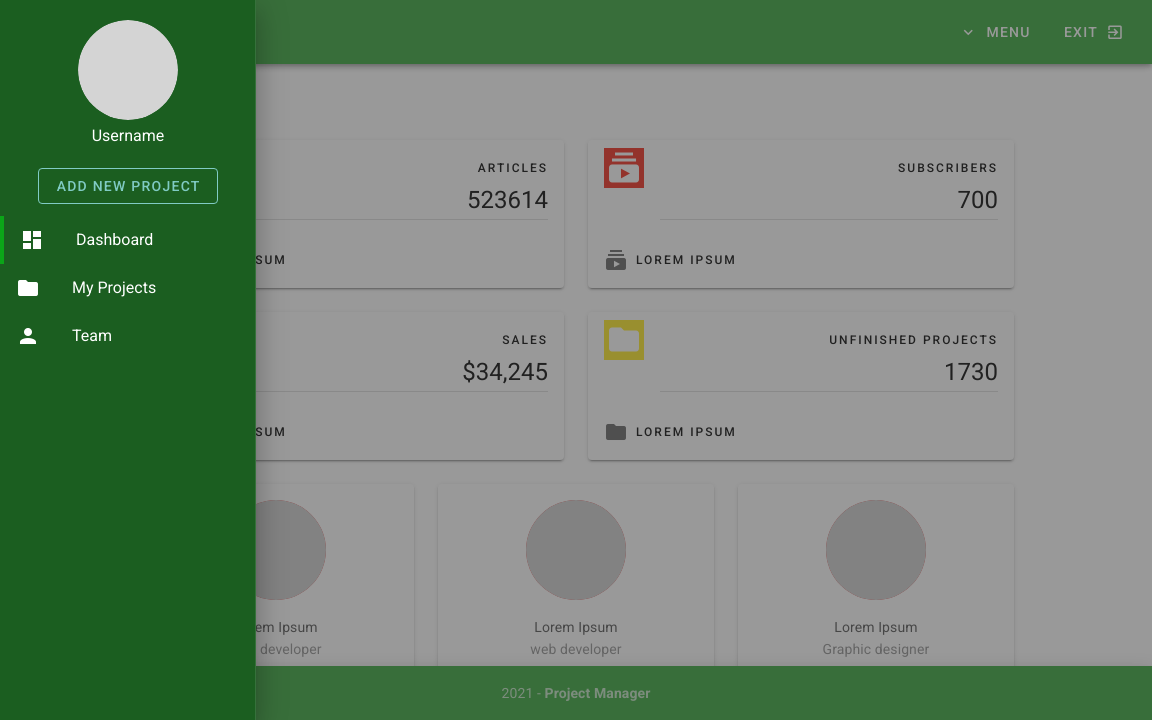
Test: Main › go back to Dashboard through sidebar menu
Click the link "Team".
click(92, 336)  # box [16, 324, 112, 348]
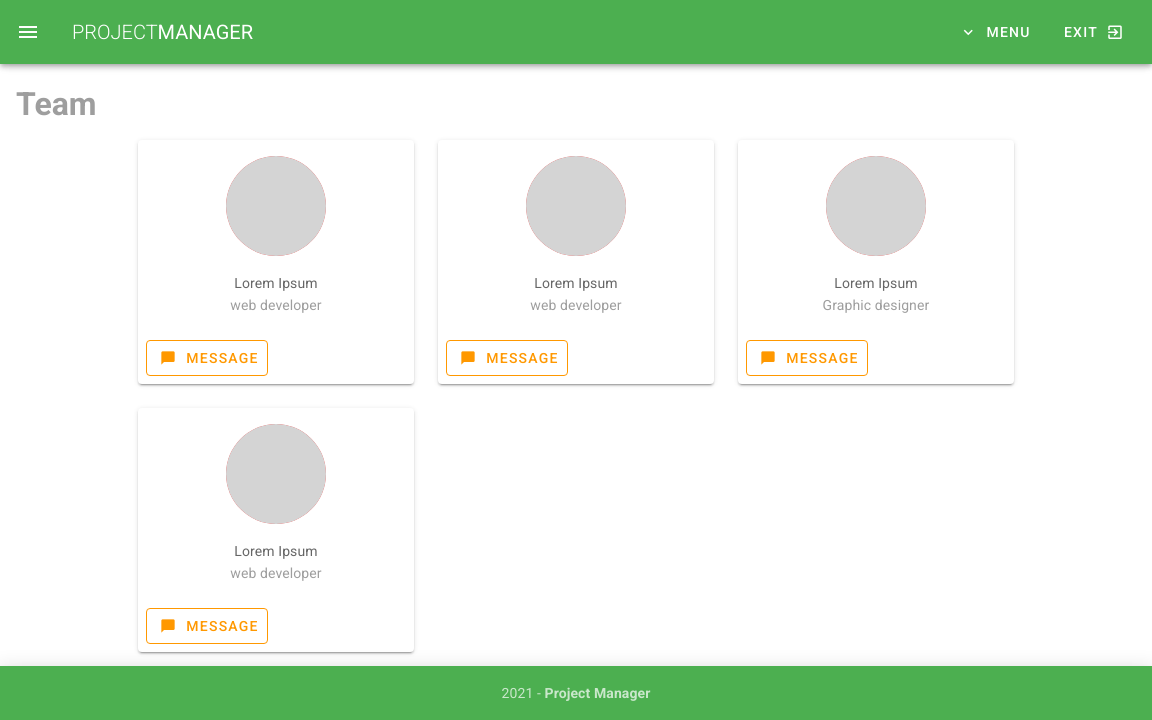
Now the button "Add new project" is gone
Click the 1st button.
click(28, 32)  # box [4, 8, 52, 56]
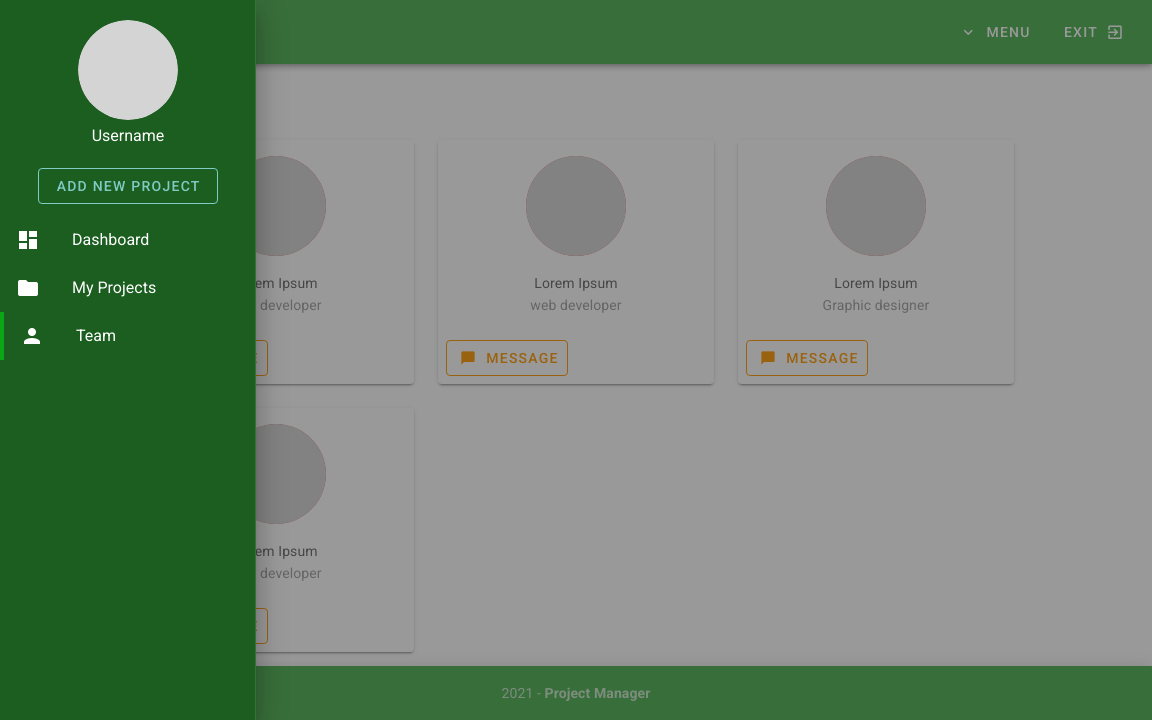
Click the link "Dashboard".
click(83, 240)  # box [16, 228, 149, 252]
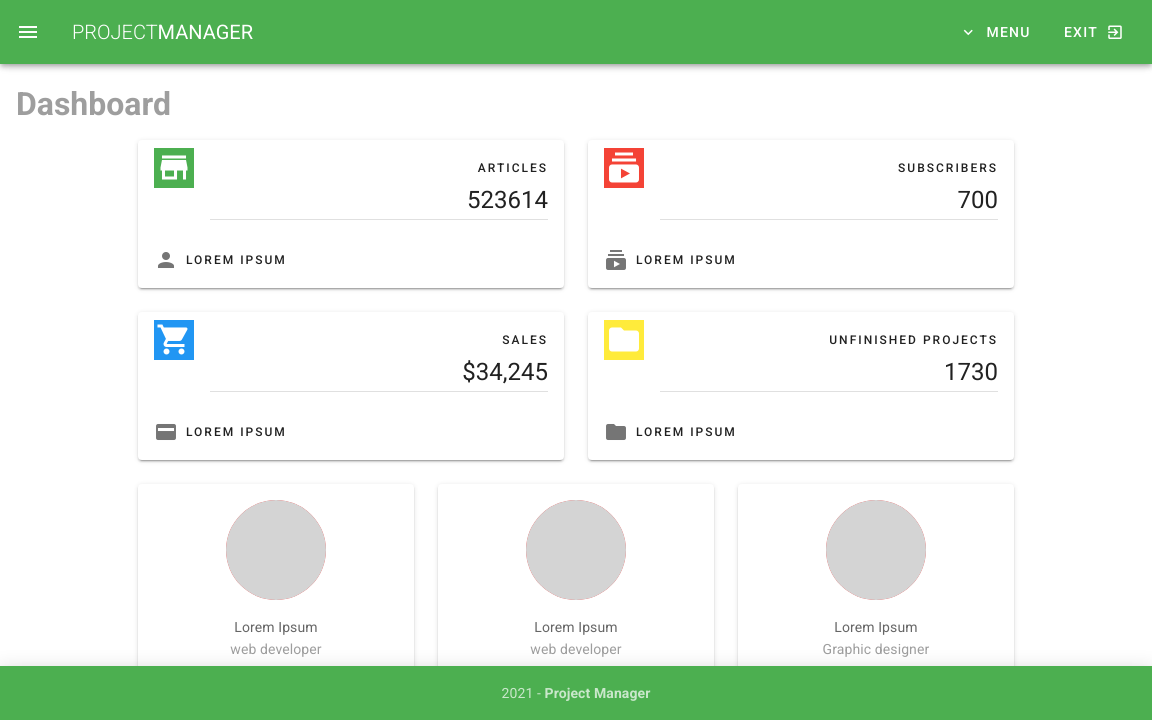
Now the button "Add new project" is gone
